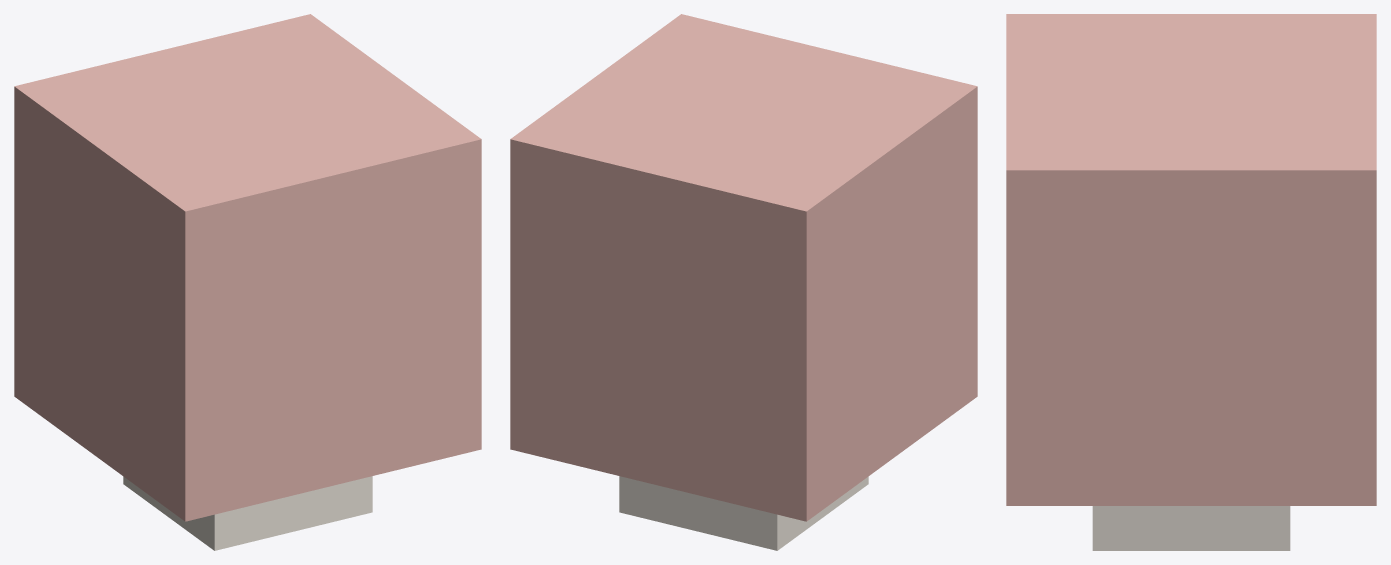
The model's file is ember_mob_mushroom_00.glb.
3 renders of one model, left to right at view 1: azimuth 30°, elevation 25°; view 2: azimuth 150°, elevation 25°; view 3: azimuth 270°, elevation 25°, orthographic. The views are drawn at different scales.
Parts seen in each view (by area): view 1: ember_mob_mushroom_00; view 2: ember_mob_mushroom_00; view 3: ember_mob_mushroom_00.
Boxes of the visible parts, left/top/right/bottom form: ember_mob_mushroom_00: left=14, top=14, right=481, bottom=550; ember_mob_mushroom_00: left=510, top=14, right=977, bottom=550; ember_mob_mushroom_00: left=1006, top=14, right=1376, bottom=550.
Size of the model in its own units: 0.735 by 0.9135 by 0.735.
